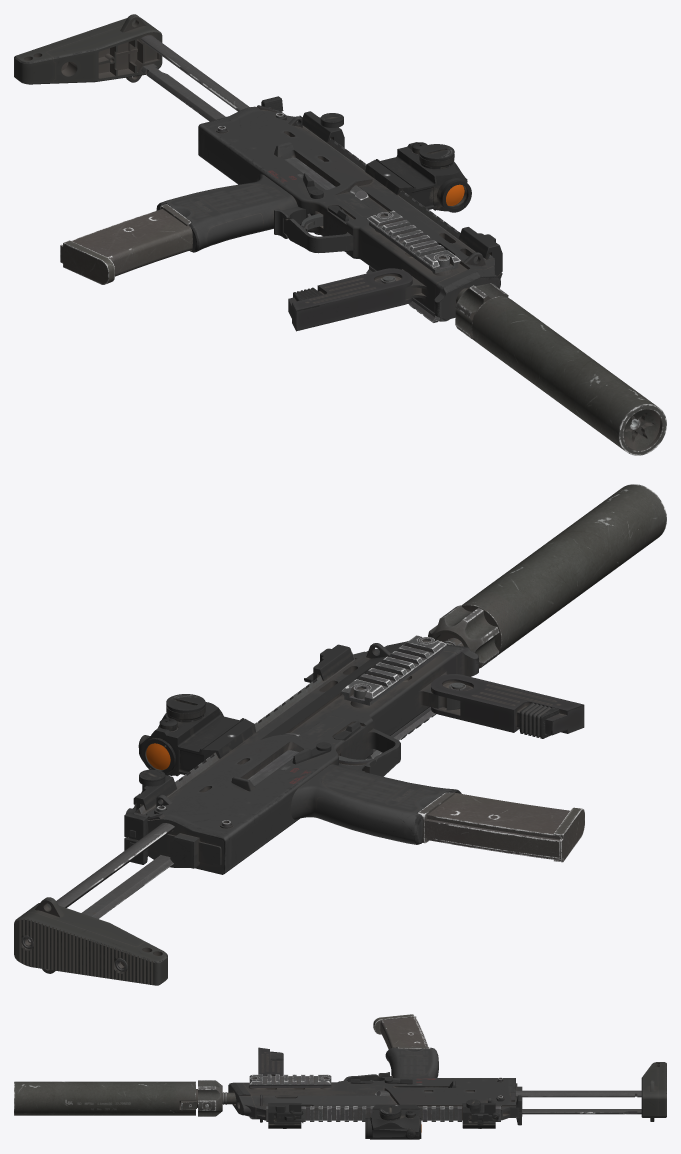
3 views of the same model, one above another, from view 1: azimuth 30°, elevation 25°; view 2: azimuth 150°, elevation 25°; view 3: azimuth 270°, elevation 25° (orthographic). The views are drawn at different scales.
Visible parts, largest first — view 1: mp7a1_Object; view 2: mp7a1_Object; view 3: mp7a1_Object.
Part boxes in pixels (x1,y1,x2,y2): mp7a1_Object: (14, 14, 666, 455); mp7a1_Object: (14, 484, 666, 985); mp7a1_Object: (14, 1014, 666, 1139).
Size of the model in its own units: 173 by 28.78 by 418.
